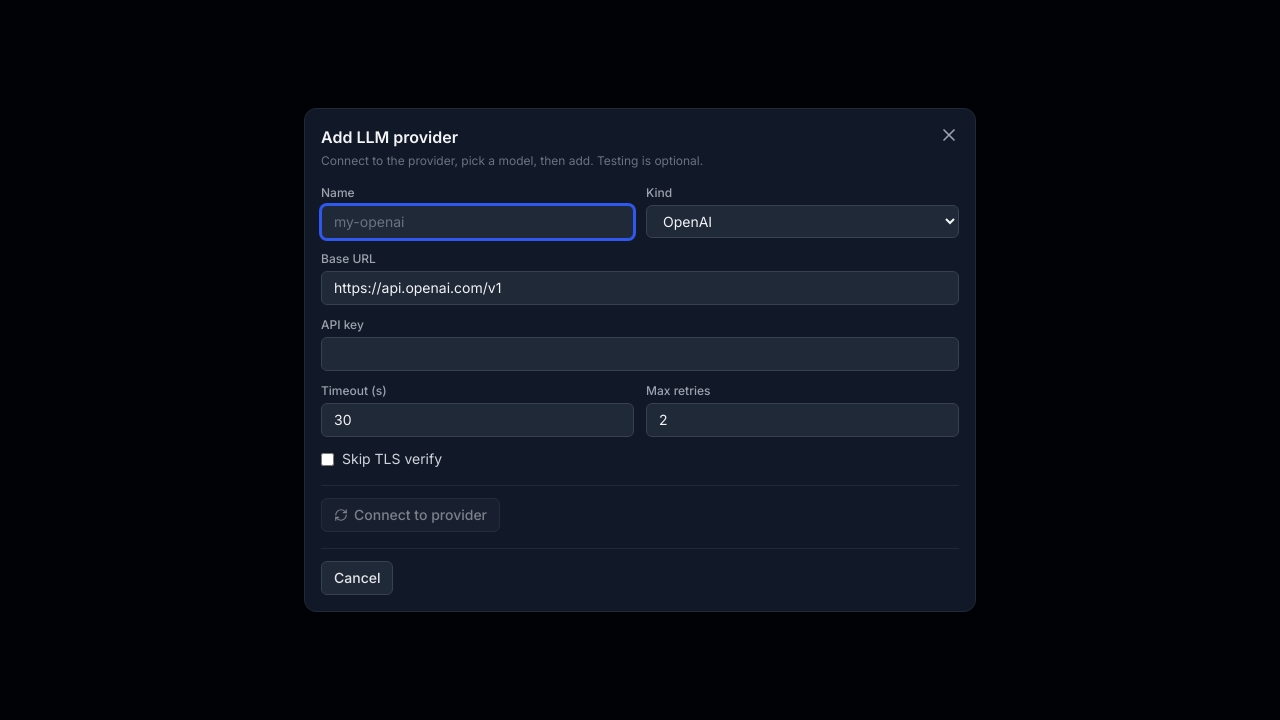
Test case: AddProviderWizard (027) › disables "Connect to provider" until name regex passes
Expected: the button "Connect to provider" is disabled, [321, 498, 500, 532]
Type "sk-test" into the password field labelled "API key" at (640,354), box [321, 337, 959, 371]
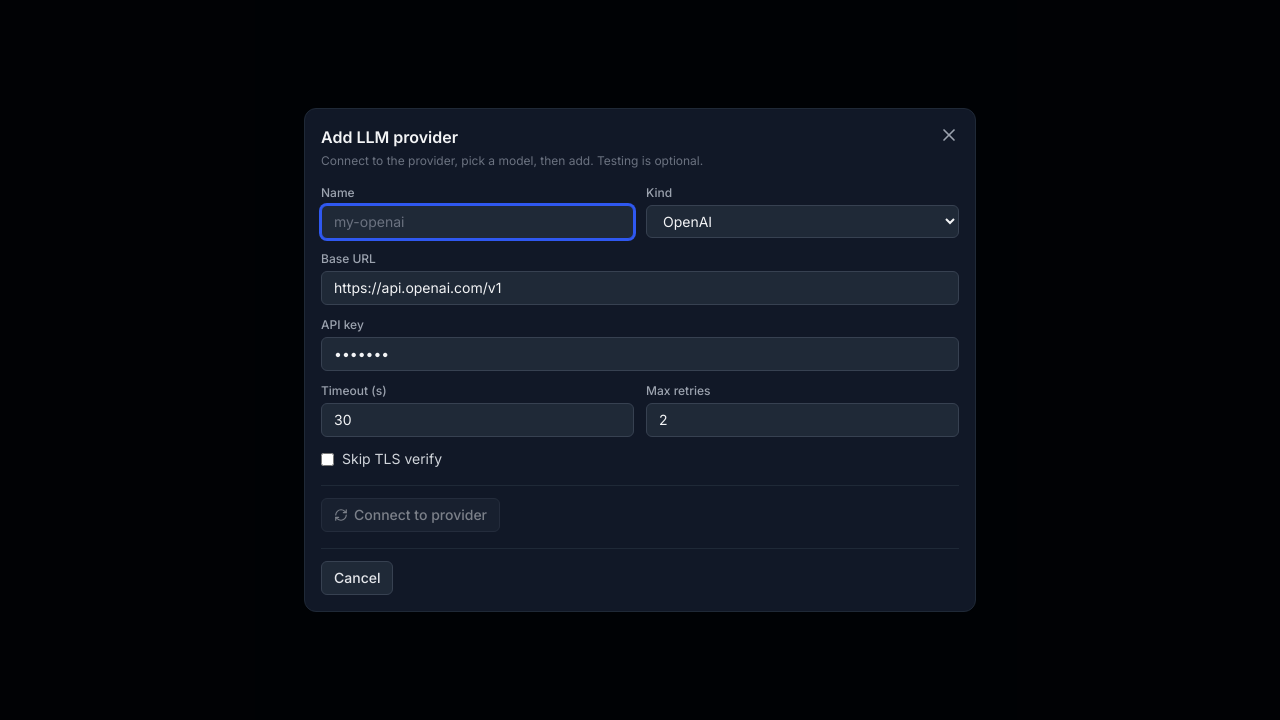
Type "bad name!" into the field labelled "Name" at (478,222), box [321, 205, 634, 239]
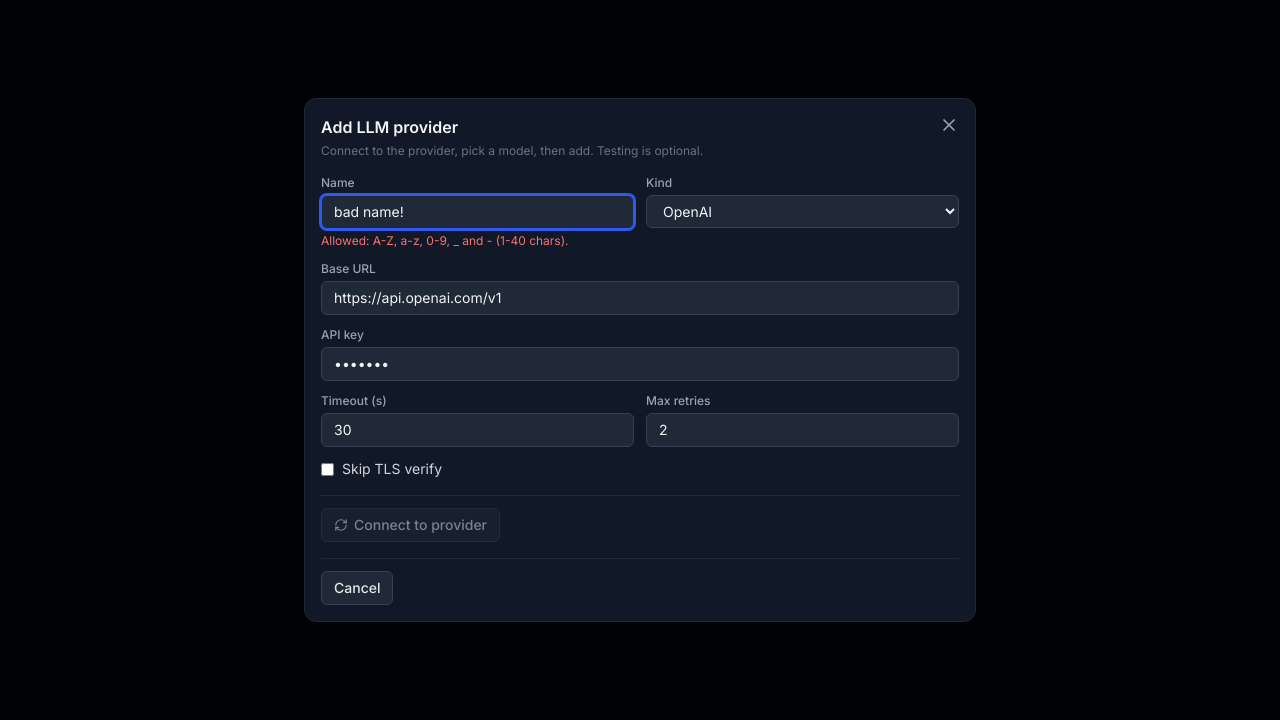
Expected: the button "Connect to provider" is disabled, [321, 508, 500, 542]
Expected: the text "Allowed: A-Z, a-z, 0-9, _ and - (1-40 chars)." is shown, [321, 233, 568, 248]
Replace the text in the field labelled "Name" with "my-openai" at (478,212), box [321, 195, 634, 229]
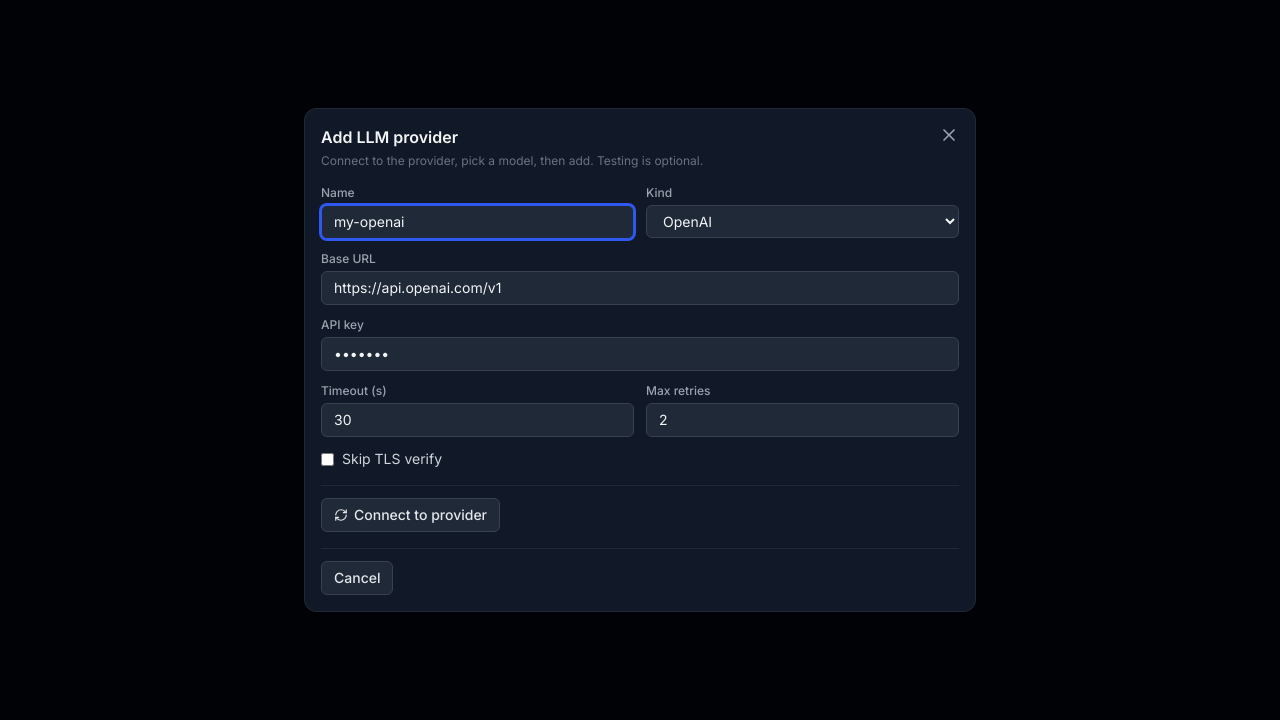
Expected: the button "Connect to provider" is enabled, [321, 498, 500, 532]
